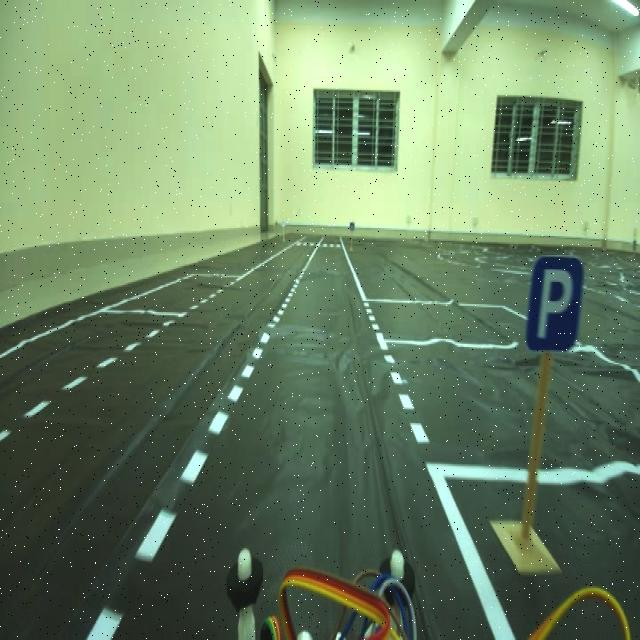parking: (520, 255, 584, 366)
